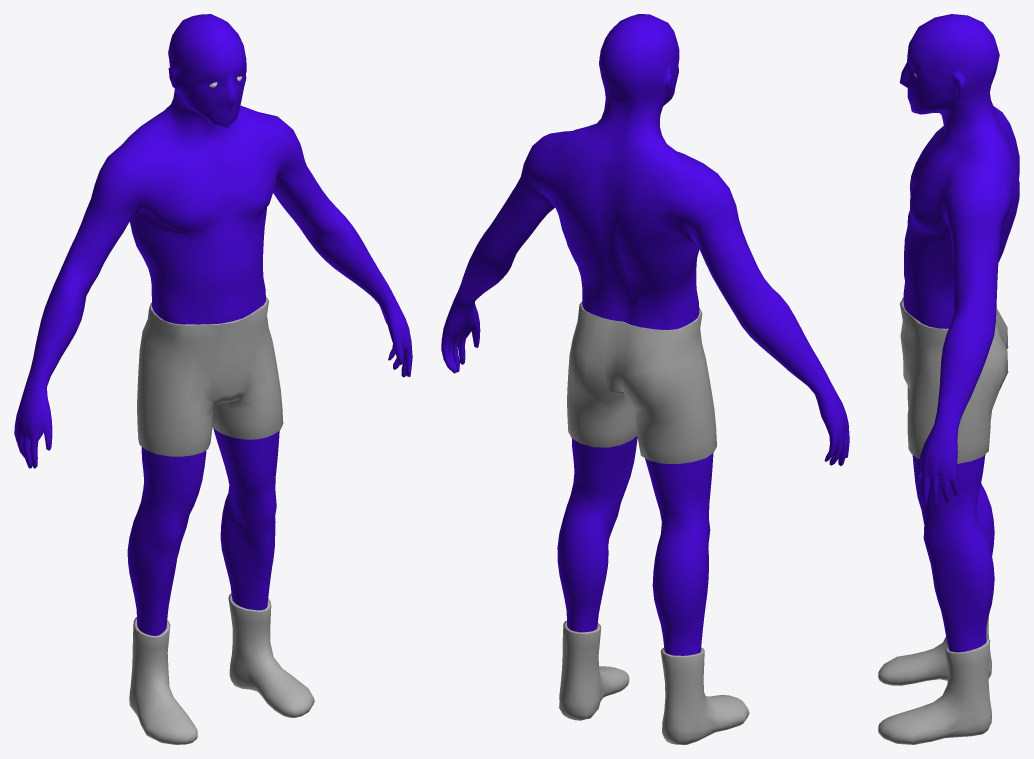
Rendered from lpl.fbx.
3 renders of one model, left to right at view 1: azimuth 30°, elevation 25°; view 2: azimuth 150°, elevation 25°; view 3: azimuth 270°, elevation 25°, orthographic. The views are drawn at different scales.
Visible parts, largest first — view 1: thangthu2; view 2: thangthu2; view 3: thangthu2.
Part boxes in pixels (x1,y1,x2,y2): thangthu2: (14, 14, 412, 744); thangthu2: (441, 14, 849, 744); thangthu2: (878, 14, 1019, 744).
Bounding box in the file's own units: 144 × 244 × 45.27.
